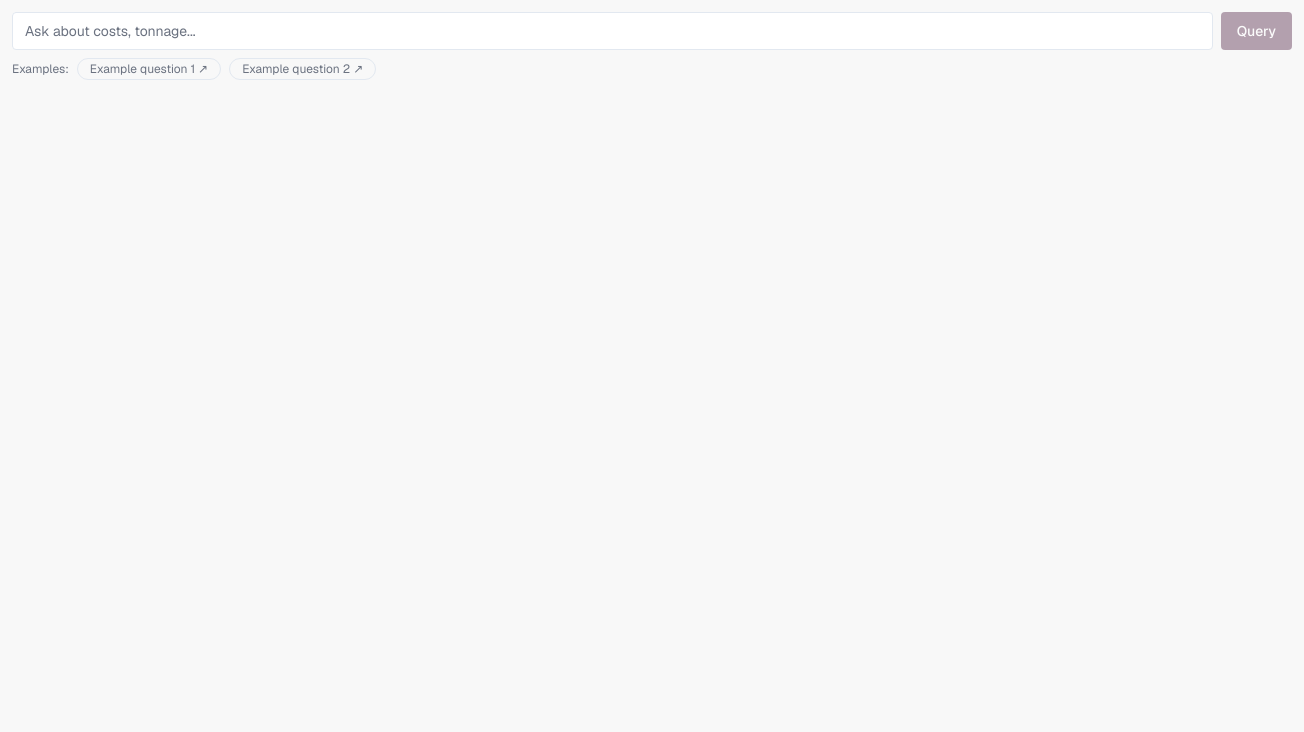
QueryPanel › renders insight text after successful fetch
The width and height of the screenshot is (1304, 732).
Type "tendencia de costo" into the field with placeholder "Ask about costs, tonnage..." at [612, 31], box [12,12,1213,50]
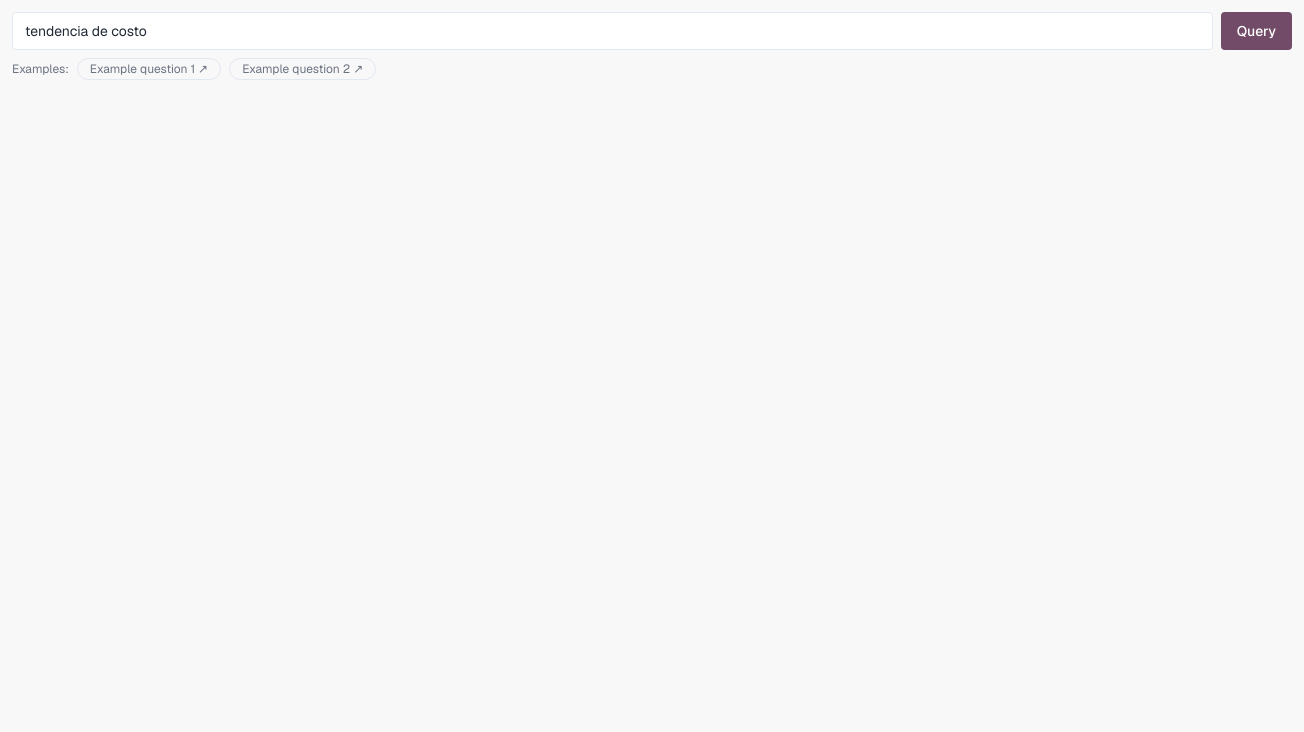
Click the button "Query" at [1256, 31], box [1221,12,1292,50]
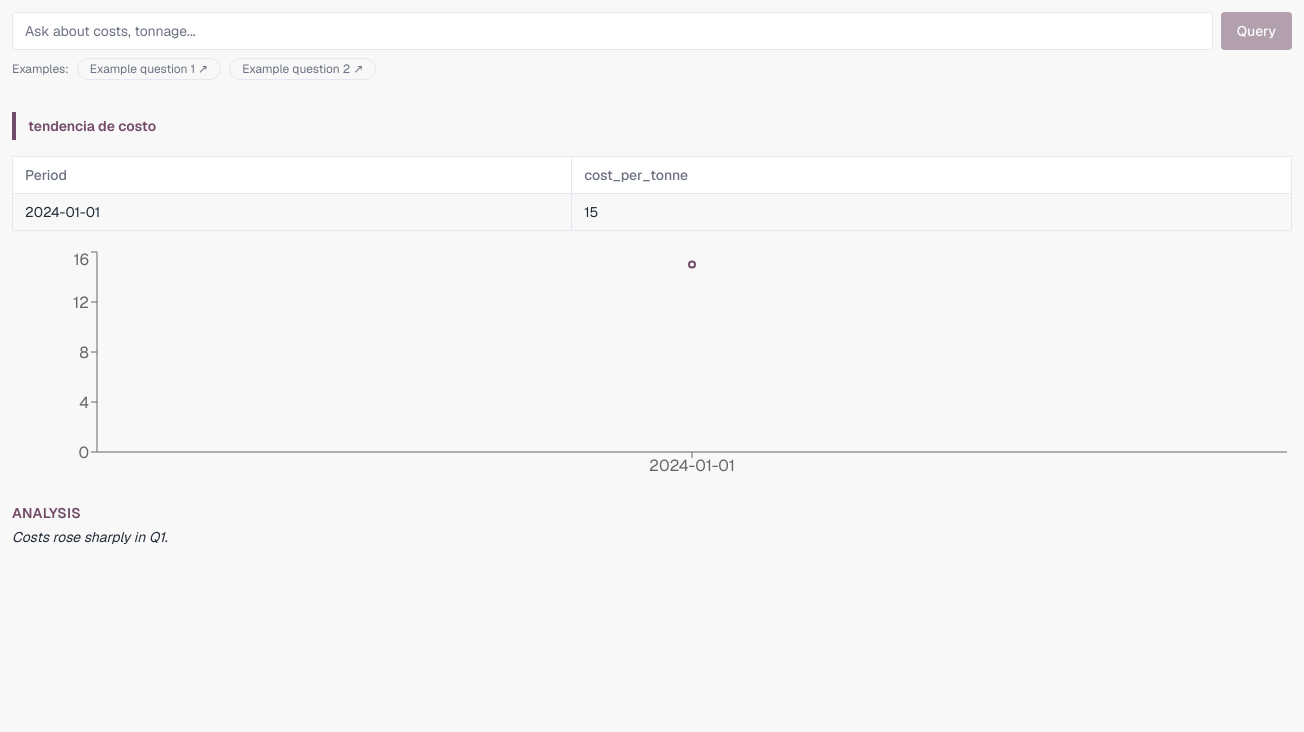
Expected: the text "Costs rose sharply in Q1." is shown, [12,528,168,546]
